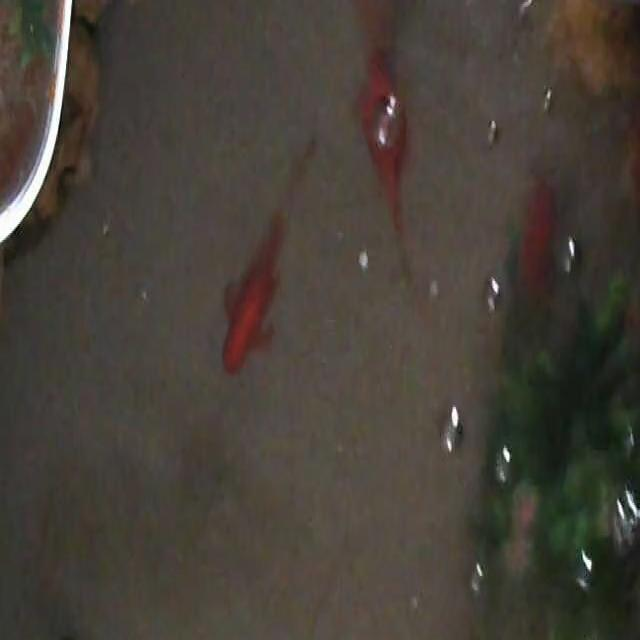fish: (222, 127, 318, 376), (357, 35, 414, 277), (518, 170, 558, 297), (349, 0, 400, 78)
